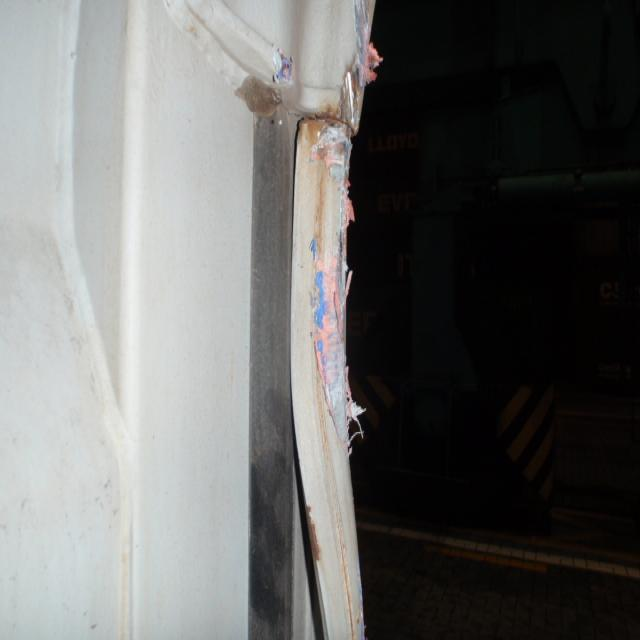dent: (57, 1, 148, 462)
